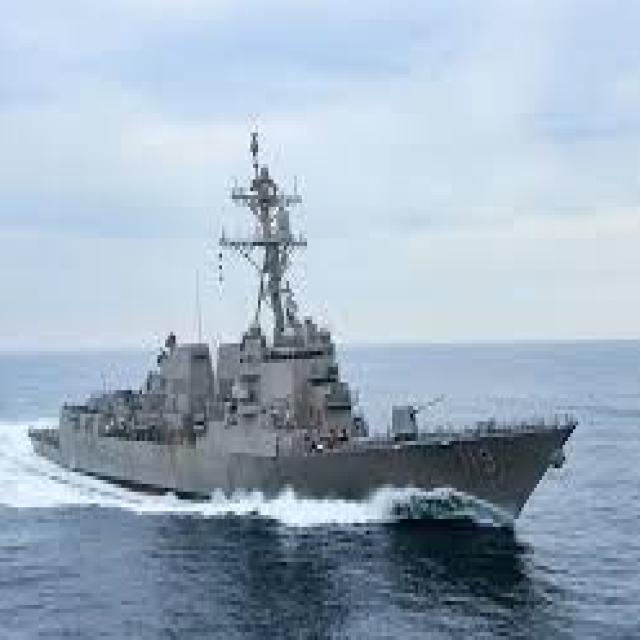navalvessels: (29, 132, 592, 567)
